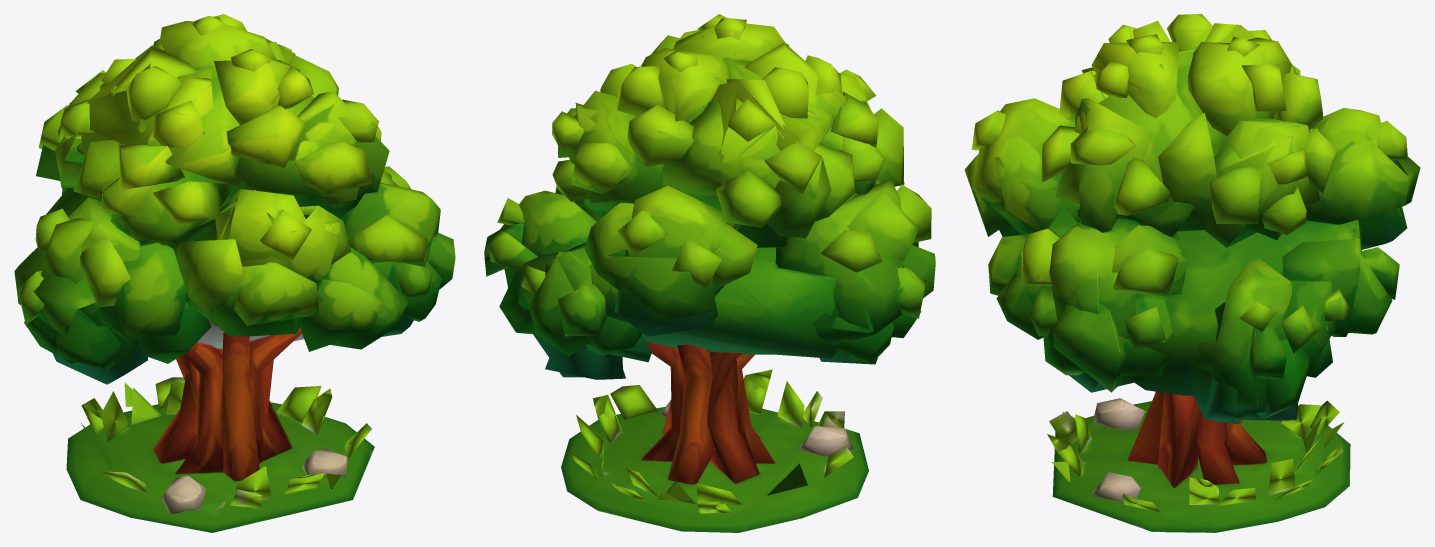
File: etapa100.glb
The picture shows the model from 3 angles, left to right: view 1: azimuth 30°, elevation 25°; view 2: azimuth 150°, elevation 25°; view 3: azimuth 270°, elevation 25°; orthographic projection.
Bounding box in the file's own units: 0.9794 × 1 × 0.953.
Materials: 1 (1 with a texture image).
